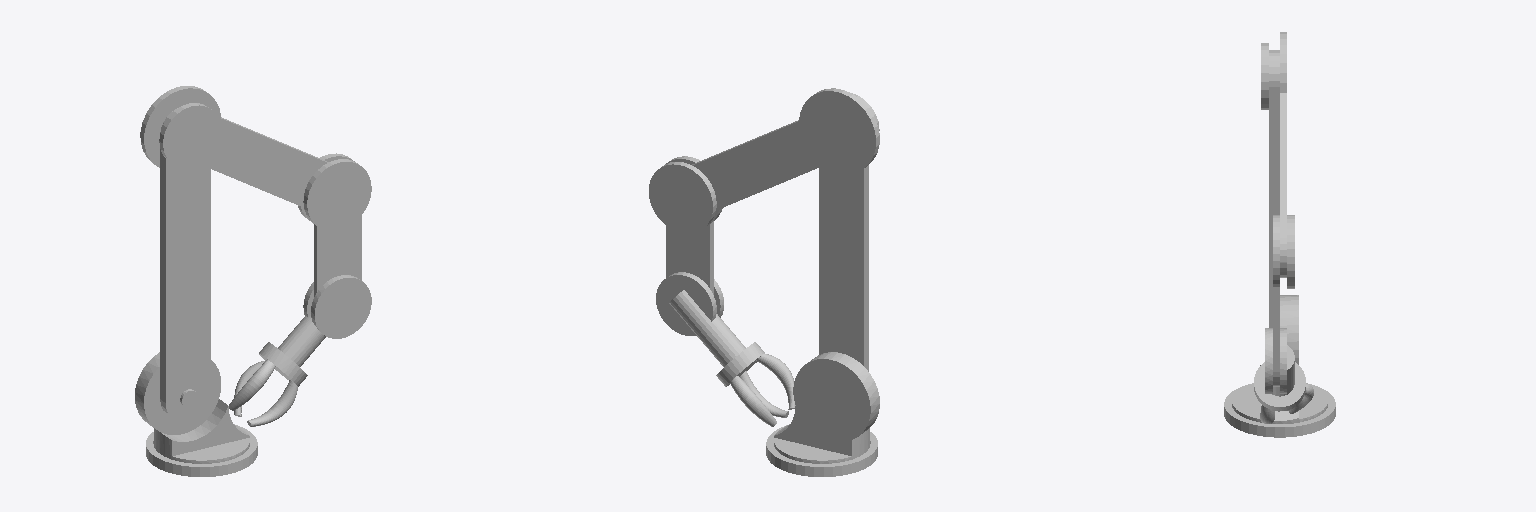
3 renders of one model, left to right at view 1: azimuth 30°, elevation 25°; view 2: azimuth 150°, elevation 25°; view 3: azimuth 270°, elevation 25°, orthographic.
Visible parts, largest first — view 1: Body1:2, Body1, Body1:5, Body1:4, Body1:1, Body1:3; view 2: Body1, Body1:5, Body1:2, Body1:4, Body1:1, Body1:3; view 3: Body1:5, Body1:2, Body1, Body1:4, Body1:3, Body1:1.
Part boxes in pixels (x1,y1,x2,y2): Body1:2: (160, 108, 210, 421); Body1: (140, 86, 328, 207); Body1:5: (135, 352, 257, 476); Body1:4: (298, 153, 371, 296); Body1:1: (278, 275, 371, 366); Body1:3: (229, 342, 307, 426); Body1: (692, 88, 879, 209); Body1:5: (766, 352, 879, 476); Body1:2: (819, 165, 868, 371); Body1:4: (649, 156, 722, 294); Body1:1: (656, 272, 745, 366); Body1:3: (716, 342, 795, 426); Body1:5: (1224, 295, 1335, 437); Body1:2: (1269, 50, 1279, 327); Body1: (1261, 32, 1286, 277); Body1:4: (1273, 215, 1294, 386); Body1:3: (1254, 362, 1313, 423); Body1:1: (1265, 328, 1294, 396).
Size of the model in its own units: 347 by 546 by 150.